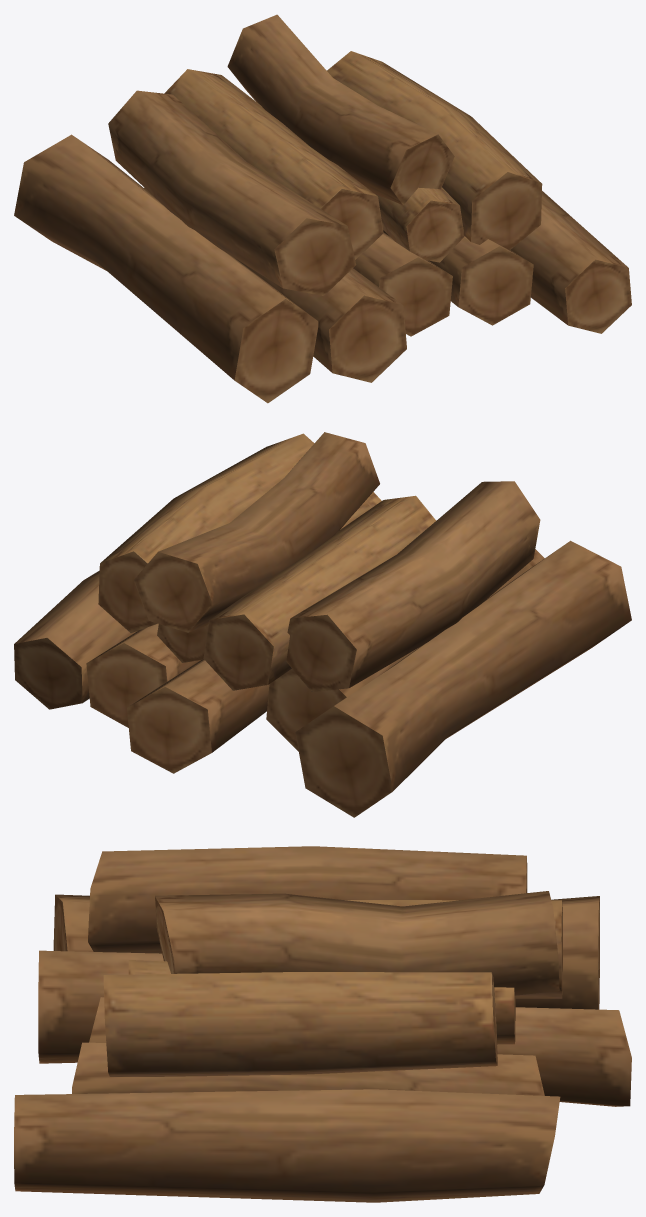
Rendered from scene_lawennushandao_yuanmudui01.FBX.
3 views of the same model, one above another, from view 1: azimuth 30°, elevation 25°; view 2: azimuth 150°, elevation 25°; view 3: azimuth 270°, elevation 25° (orthographic). The views are drawn at different scales.
Parts seen in each view (by area): view 1: scene_lawennushandao_yuanmudui01; view 2: scene_lawennushandao_yuanmudui01; view 3: scene_lawennushandao_yuanmudui01.
Part boxes in pixels (bbox=[...]): scene_lawennushandao_yuanmudui01: bbox=[14, 14, 631, 403]; scene_lawennushandao_yuanmudui01: bbox=[14, 432, 631, 817]; scene_lawennushandao_yuanmudui01: bbox=[14, 846, 631, 1202].
Size of the model in its own units: 227 by 104 by 252.
